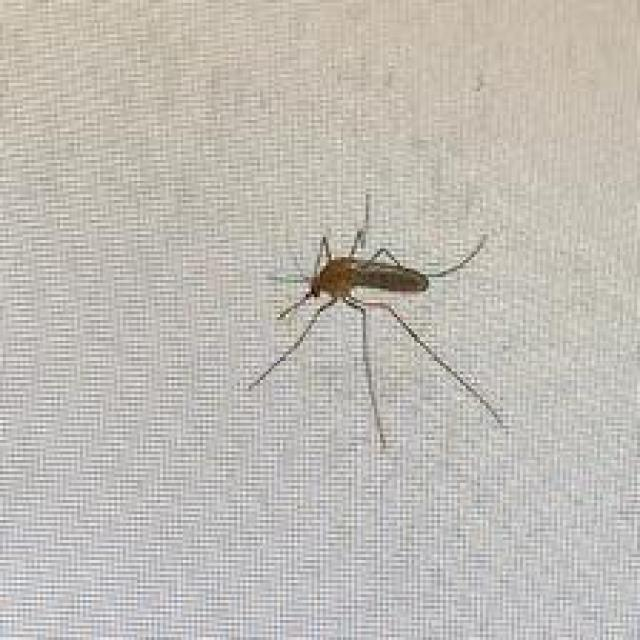Culex: (246, 193, 508, 453)
